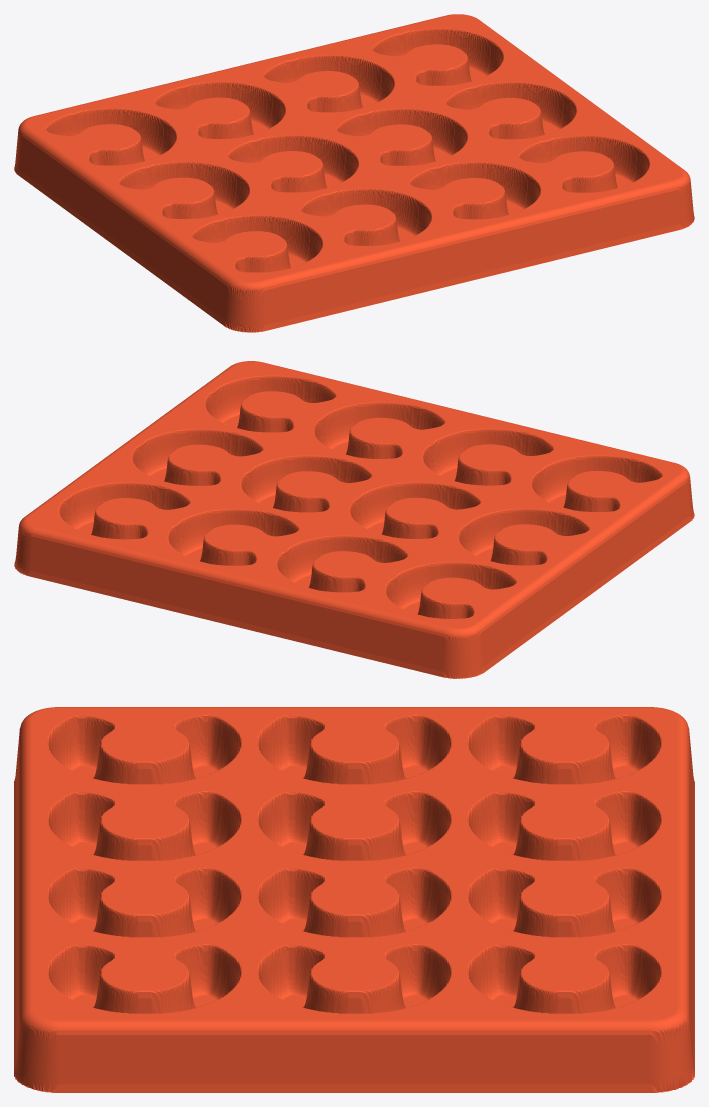
File: mold.glb
3 views of the same model, one above another, from view 1: azimuth 30°, elevation 25°; view 2: azimuth 150°, elevation 25°; view 3: azimuth 270°, elevation 25° (orthographic). The views are drawn at different scales.
Parts seen in each view (by area): view 1: geometry_0; view 2: geometry_0; view 3: geometry_0.
Boxes of the visible parts, x1,y1,x2,y2 form: geometry_0: (14,14,694,332); geometry_0: (14,361,694,678); geometry_0: (14,707,694,1092).
Size of the model in its own units: 0.1562 by 0.0145 by 0.1374.
